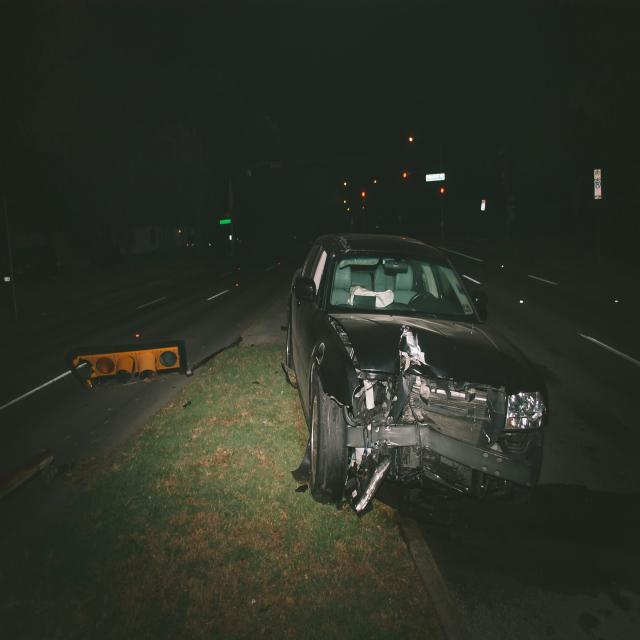crush: (326, 314, 540, 522)
